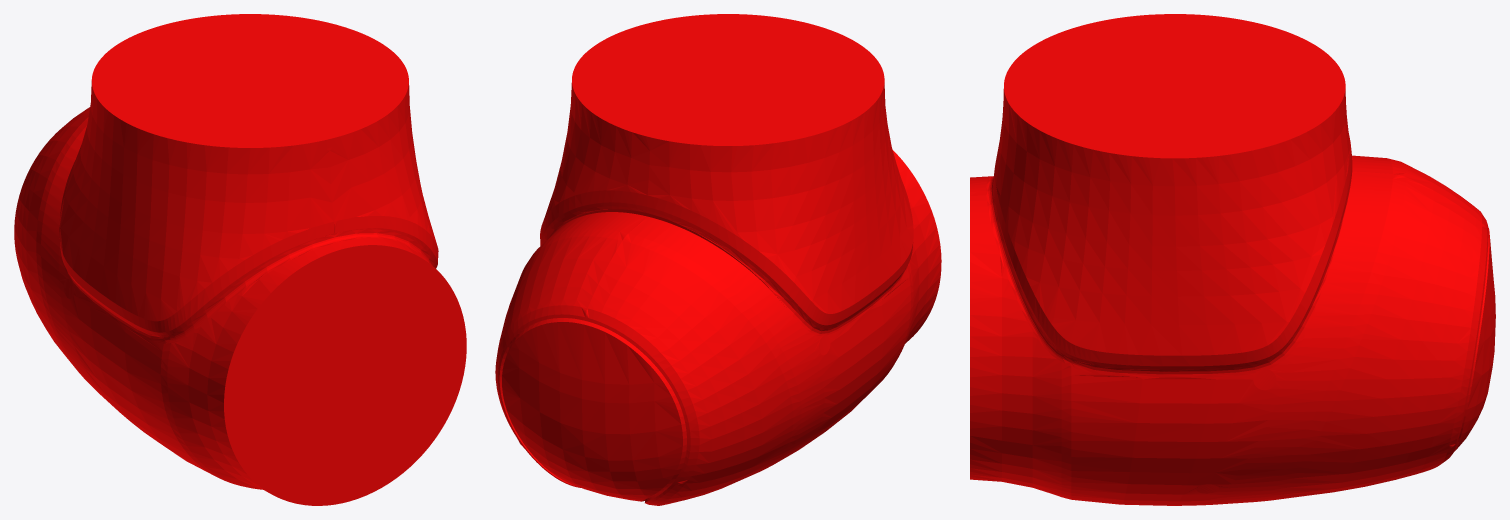
The picture shows the model from 3 angles, left to right: view 1: azimuth 30°, elevation 25°; view 2: azimuth 150°, elevation 25°; view 3: azimuth 270°, elevation 25°; orthographic projection. The views are drawn at different scales.
Parts seen in each view (by area): view 1: MF1013_5_0; view 2: MF1013_5_0; view 3: MF1013_5_0.
Part boxes in pixels (bbox=[...]): MF1013_5_0: bbox=[14, 14, 466, 505]; MF1013_5_0: bbox=[495, 14, 941, 505]; MF1013_5_0: bbox=[970, 14, 1495, 505].
Size of the model in its own units: 108 by 155 by 131.
